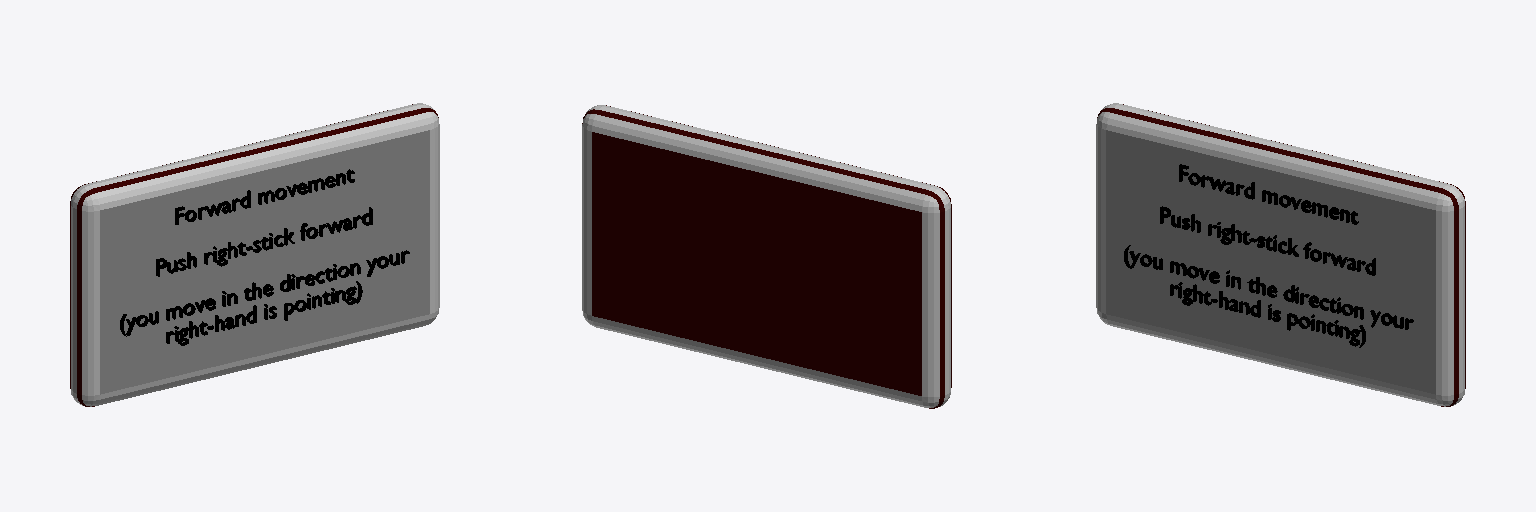
The model's file is box_forward.obj.
3 renders of one model, left to right at view 1: azimuth 30°, elevation 25°; view 2: azimuth 150°, elevation 25°; view 3: azimuth 330°, elevation 25°, orthographic.
Visible parts, largest first — view 1: box_forward; view 2: box_forward; view 3: box_forward.
Part boxes in pixels (bbox=[...]): box_forward: bbox=[70, 103, 439, 406]; box_forward: bbox=[582, 105, 951, 408]; box_forward: bbox=[1096, 103, 1465, 406].
Size of the model in its own units: 0.5 by 0.2887 by 0.0527.